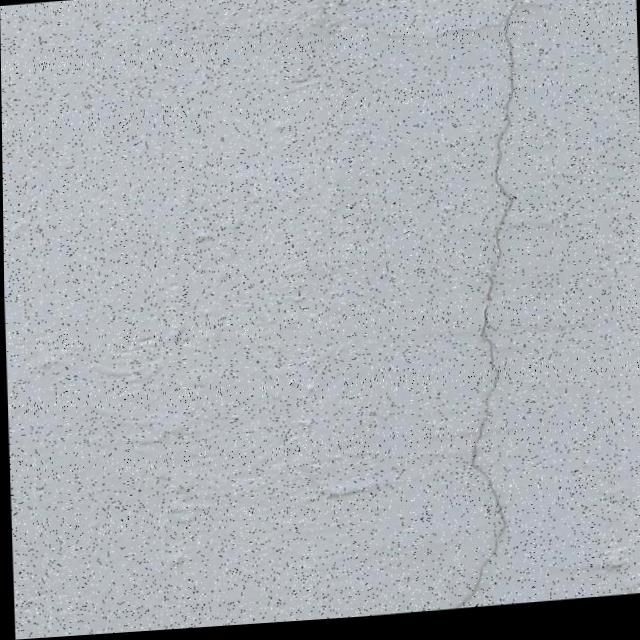Crack: (354, 0, 566, 620)
